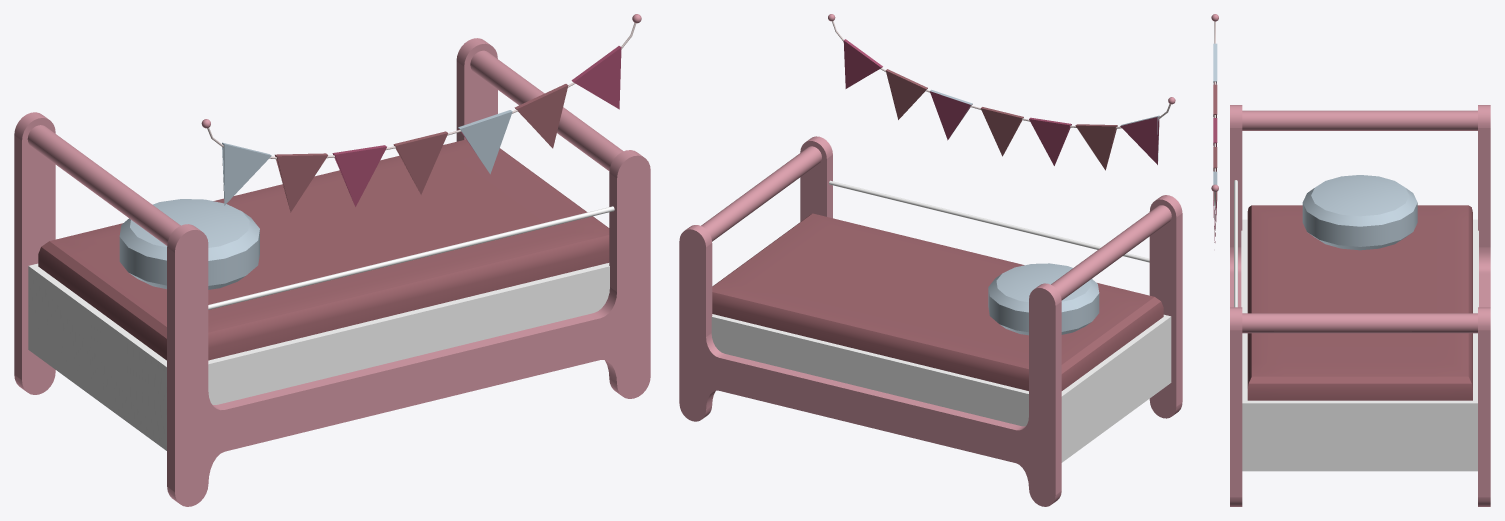
The model's file is Furn4_bed_color3.fbx.
The picture shows the model from 3 angles, left to right: view 1: azimuth 30°, elevation 25°; view 2: azimuth 150°, elevation 25°; view 3: azimuth 270°, elevation 25°; orthographic projection. The views are drawn at different scales.
Visible parts, largest first — view 1: Куб.001; view 2: Куб.001; view 3: Куб.001.
Boxes of the visible parts, x1,y1,x2,y2 form: Куб.001: [14, 14, 650, 506]; Куб.001: [679, 14, 1182, 506]; Куб.001: [1211, 14, 1490, 506].
Size of the model in its own units: 390 by 307 by 244.
